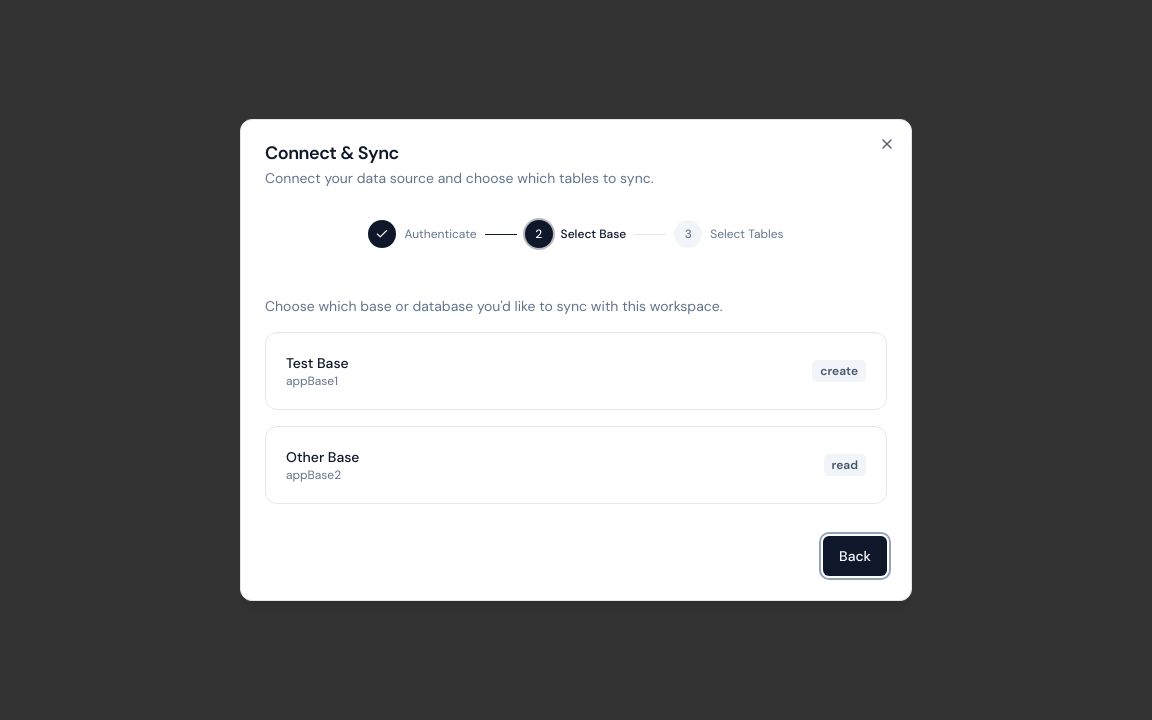
Test: SyncSetupWizard › Step 3 — Select Tables › enables start sync button after selecting a table
Expected: the text "Test Base" is shown, [286,353,349,373]
Click the element with test id "base-card-appBase1".
click(576, 371)  # box [265,332,887,410]
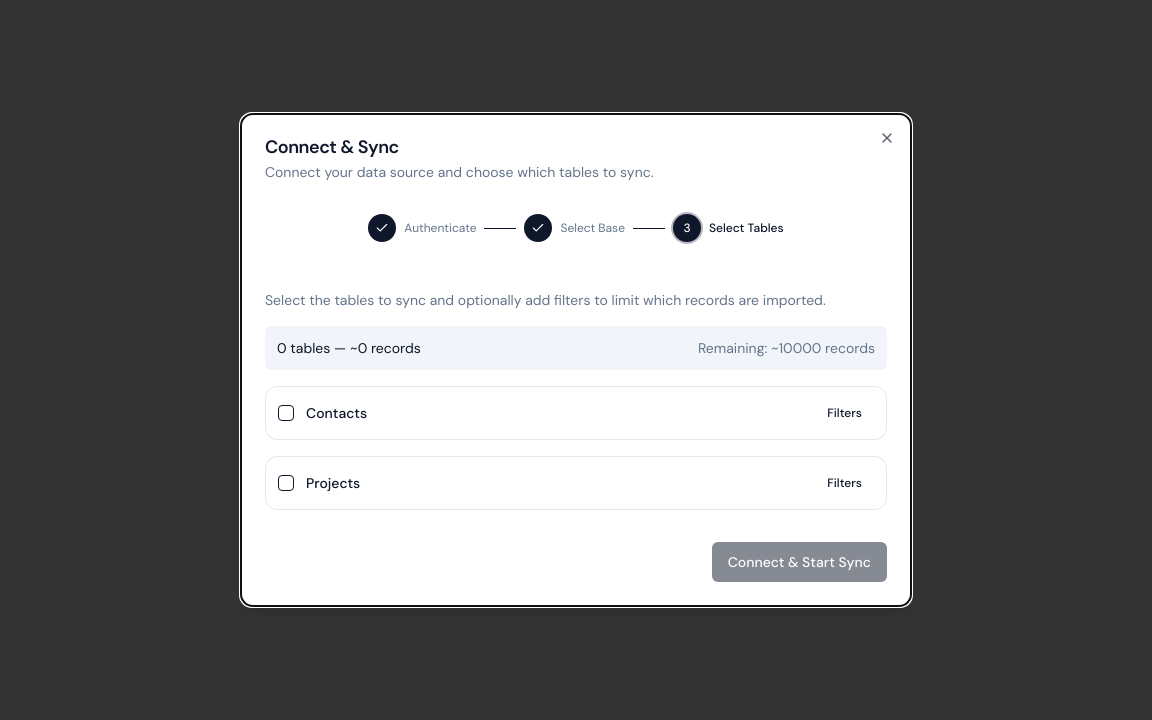
Expected: the text "Contacts" is shown, [306,404,367,422]
Click the checkbox named "Contacts" next to "Contacts".
click(286, 413)  # box [278,405,294,421]
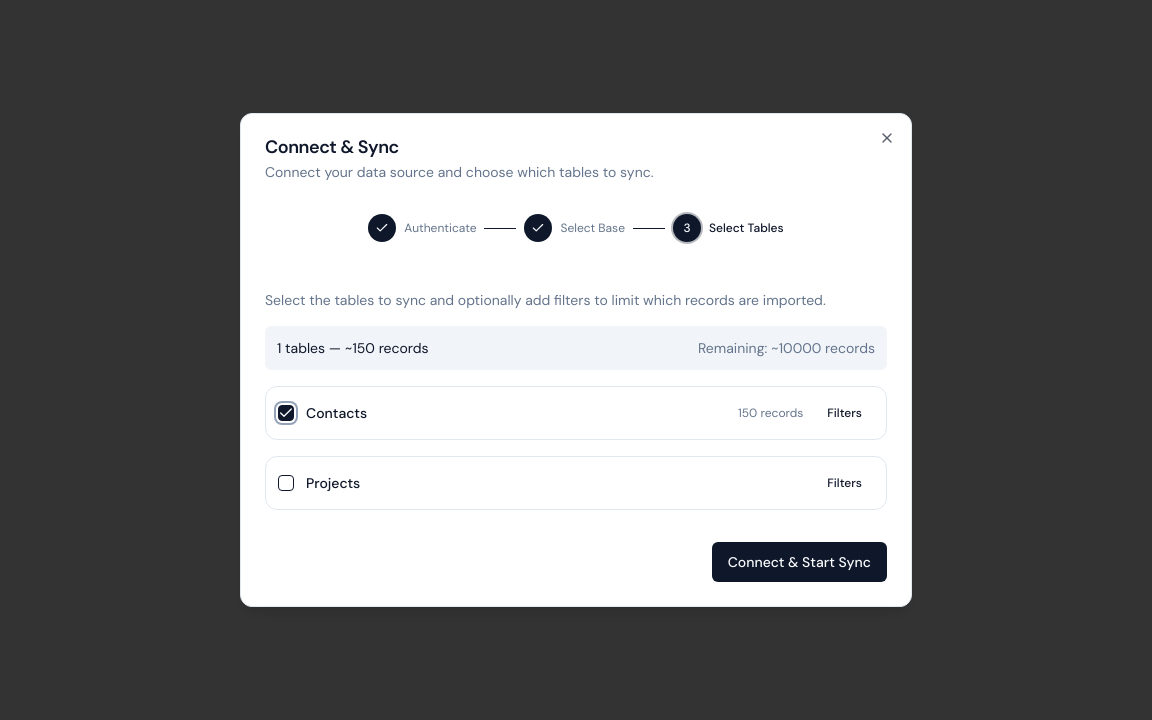
Expected: the button with test id "start-sync-button" is enabled, [712,542,887,582]
